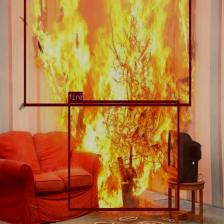fire: (24, 0, 190, 105), (68, 100, 178, 210)
